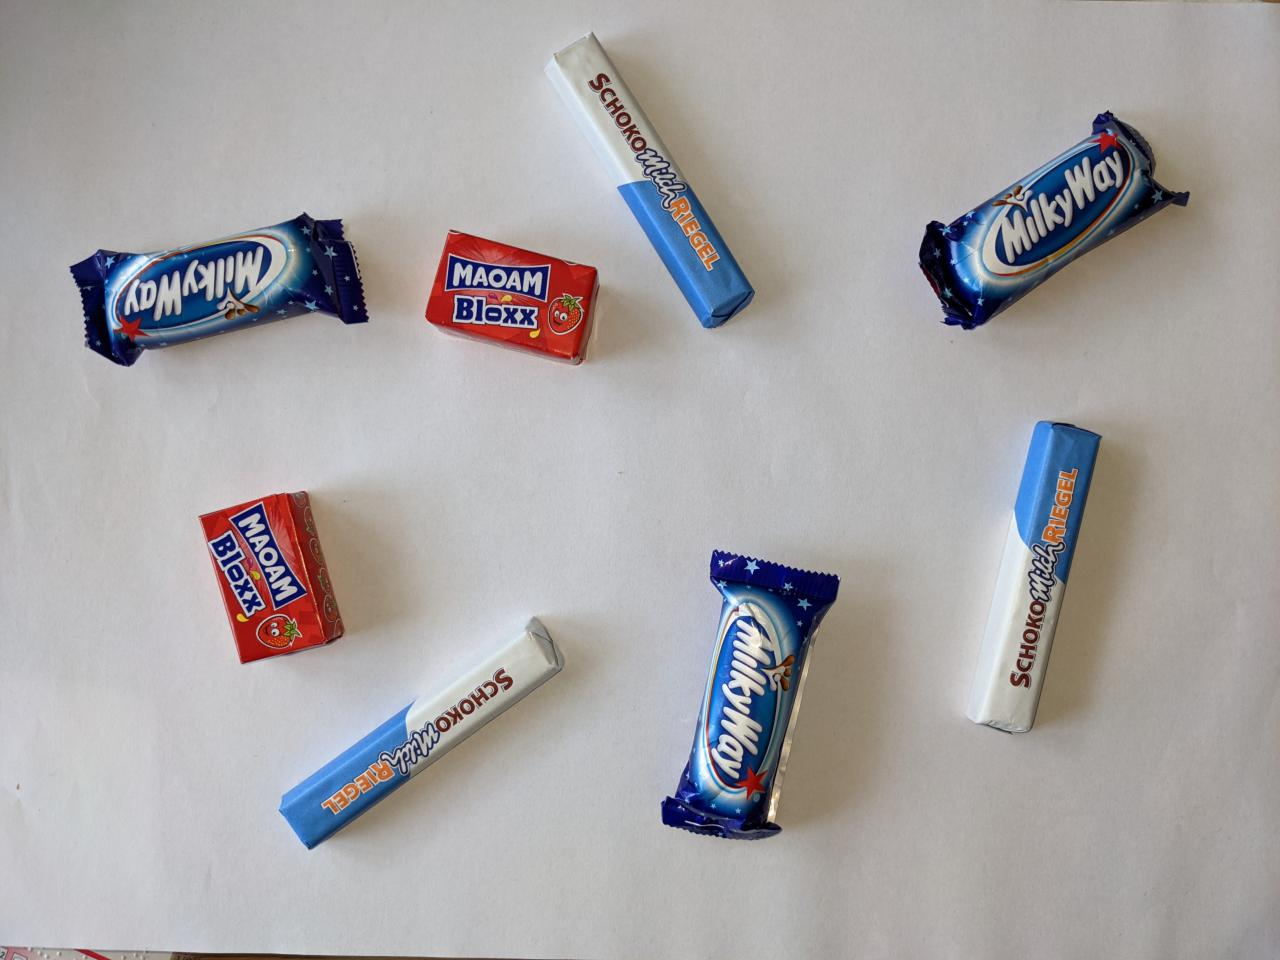MAOAM: (189, 483, 350, 669), (418, 218, 607, 371)
MilkyWay: (912, 100, 1202, 335), (653, 543, 850, 846), (63, 207, 374, 373)
Schokoriegel: (272, 608, 579, 857), (533, 23, 759, 336), (954, 414, 1111, 746)
